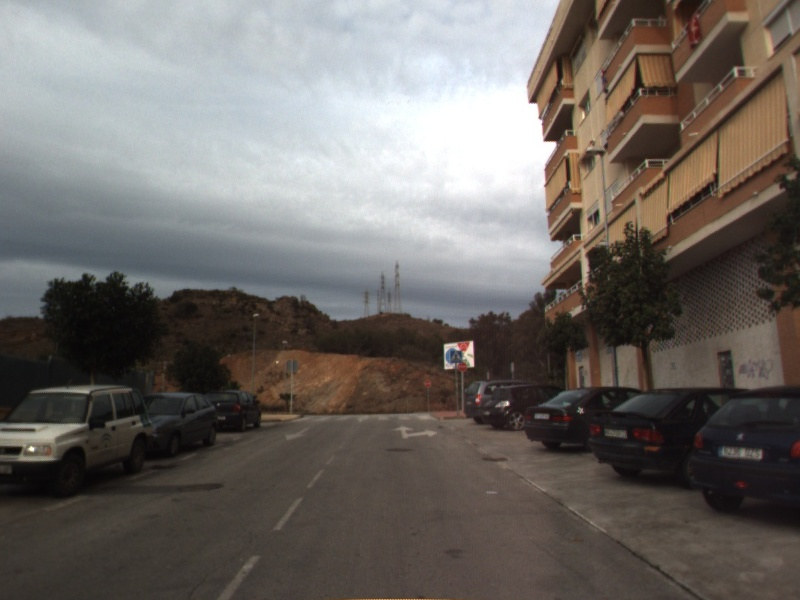STRAIGHT_RIGHT: (390, 423, 440, 441)
